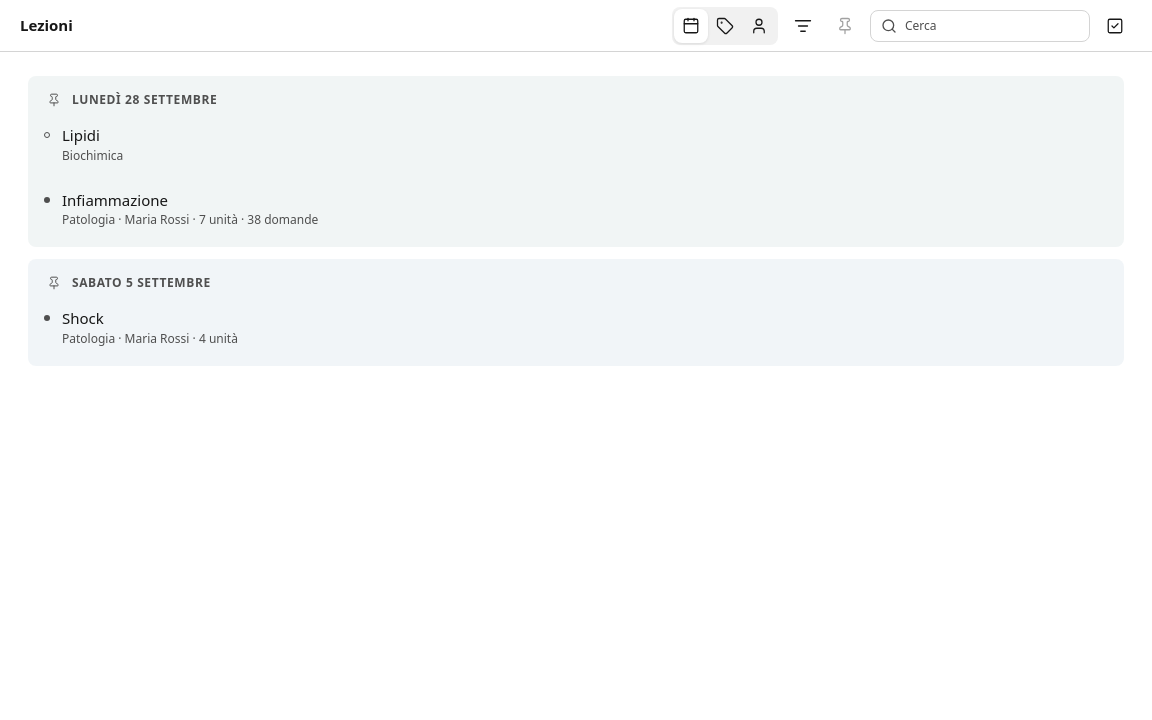
pagina Lezioni › selezione: la casella del gruppo prende tutto il gruppo, la barra scarica Markdown e zip
The width and height of the screenshot is (1152, 720).
Click the button named "Seleziona": (1115, 26) [1098,8,1132,42]
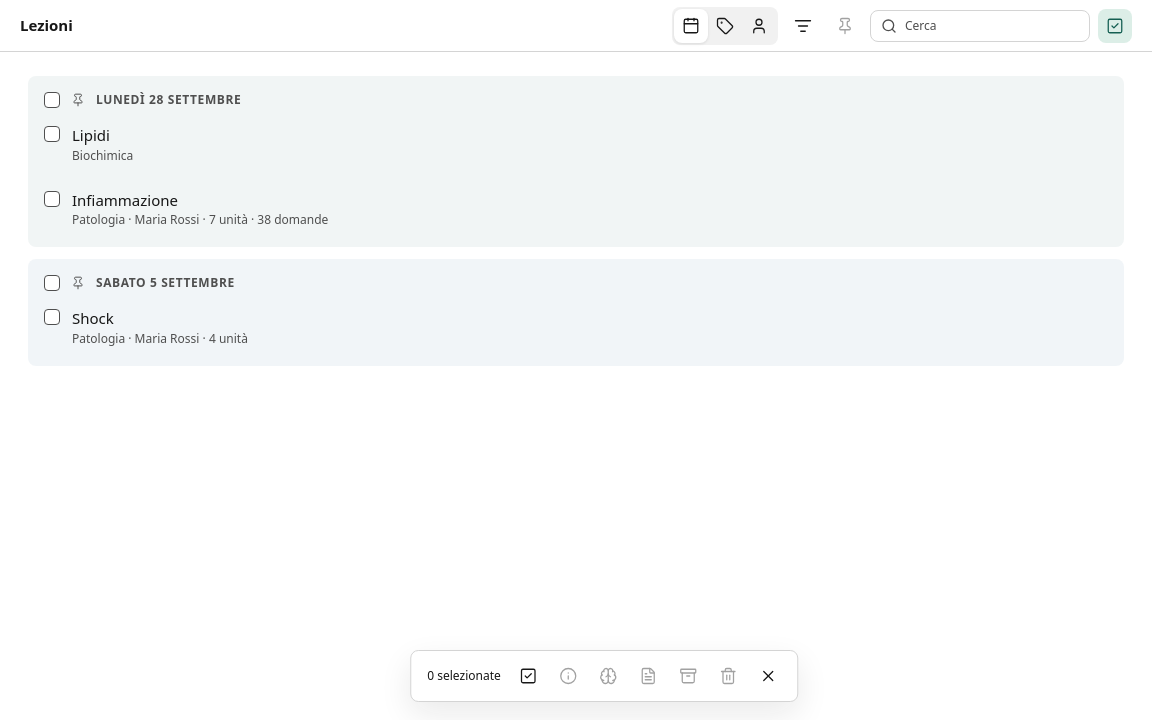
Click the checkbox named "Seleziona il gruppo": (52, 100) [44,92,60,108]
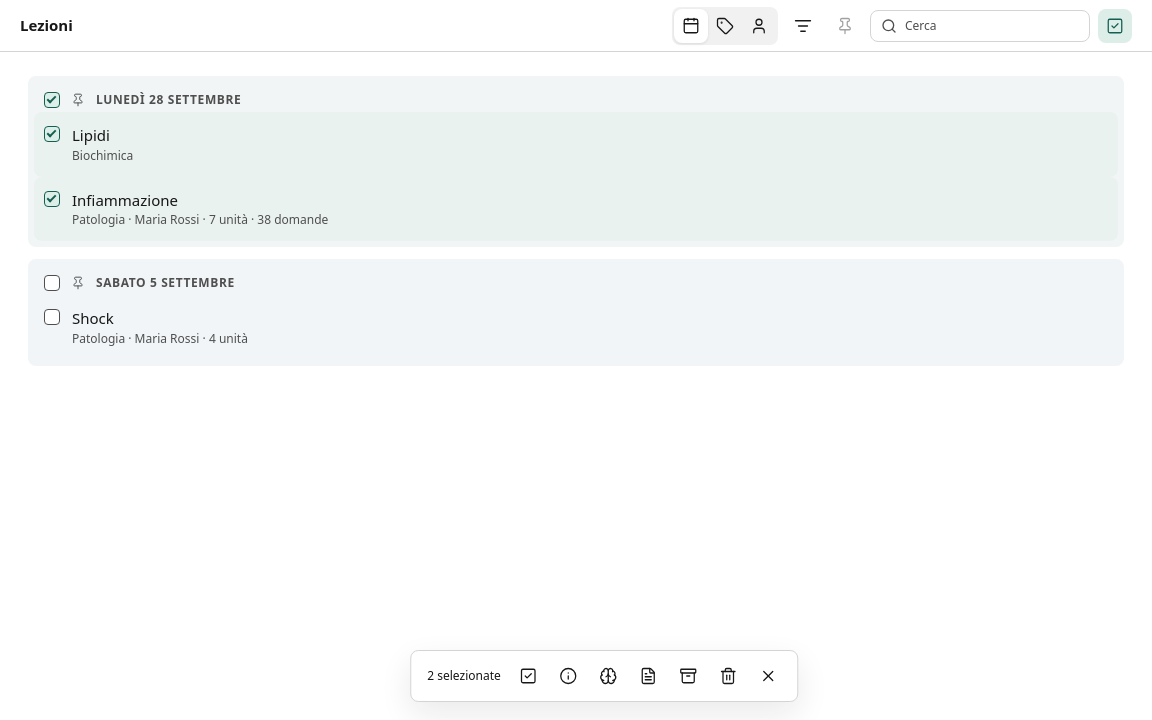
Result: the checkbox labelled "Lipidi Biochimica" is checked
Result: the text with test id "selection-count" reads "2 selezionate" at [427,667,501,684]
Click the checkbox labelled "Lipidi Biochimica": (52, 134) [44,126,60,142]
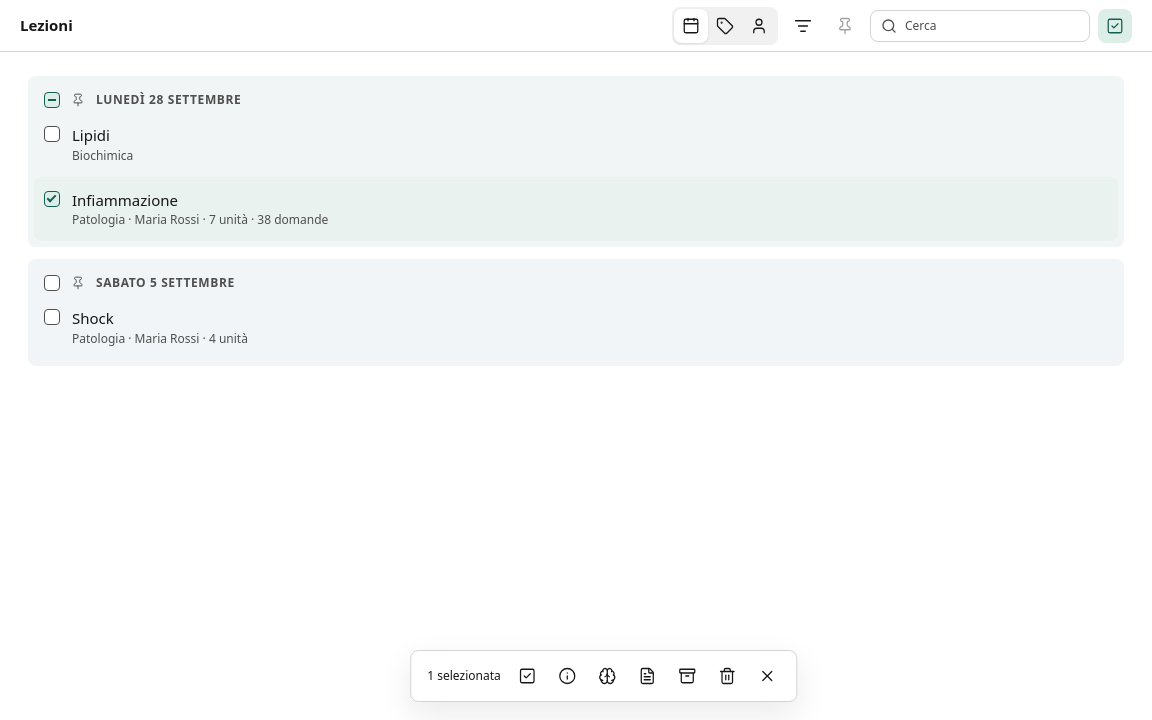
Click the button named "Annulla": (768, 676) [751,659,785,693]
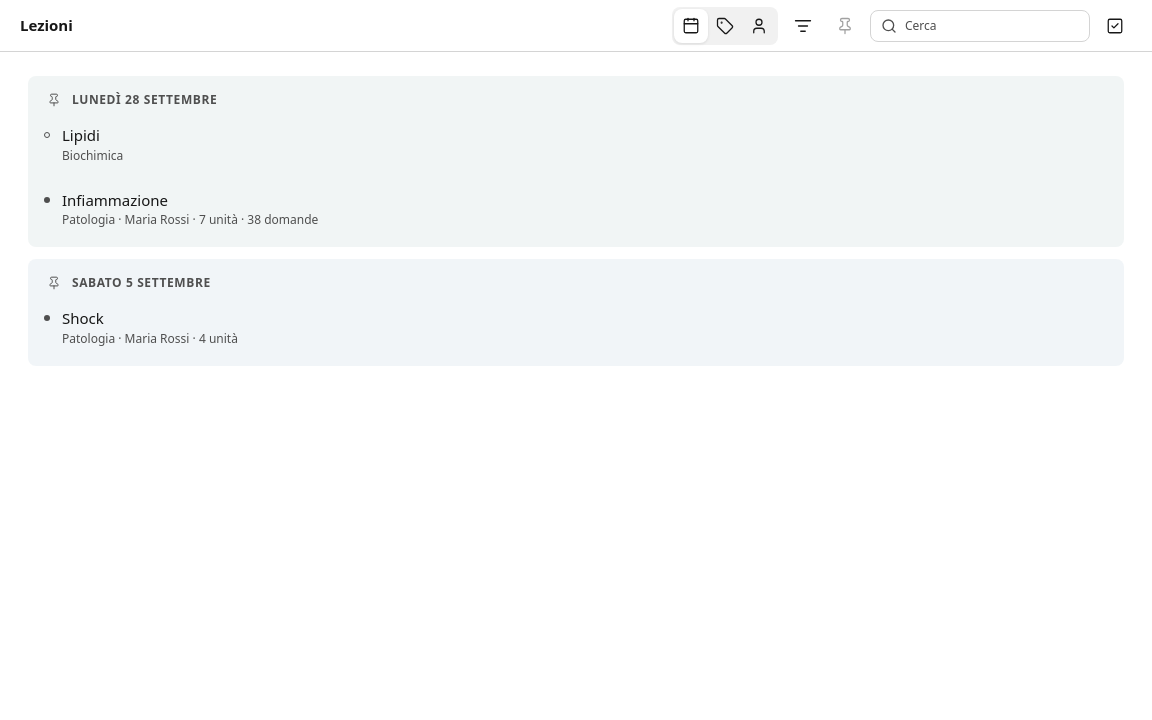
Result: the element with test id "selection-bar" is gone
Result: no checkboxes are shown
